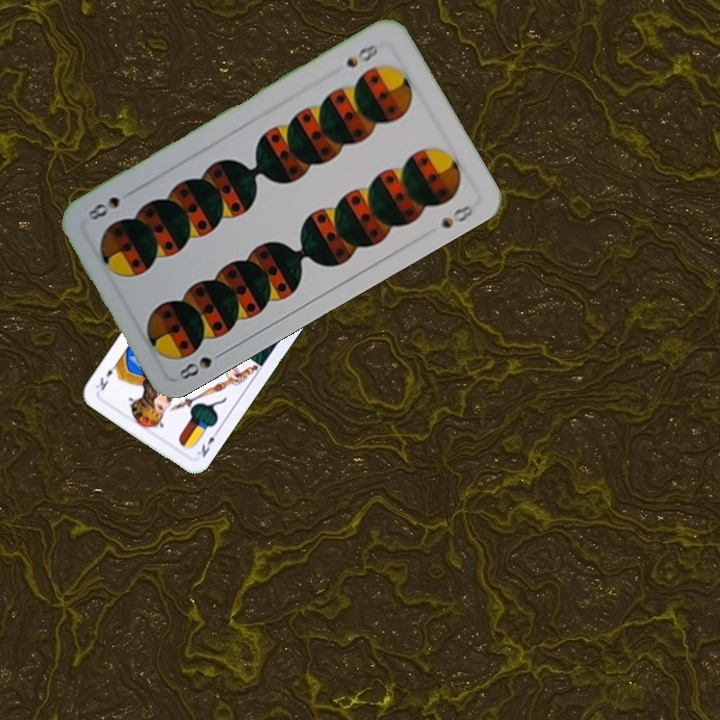EK: (193, 426, 222, 460)
S8: (174, 346, 229, 382), (342, 40, 381, 71)
